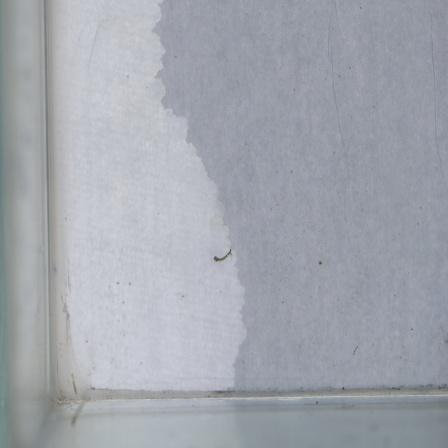Jentik-Nyamuk: (208, 243, 235, 269)
